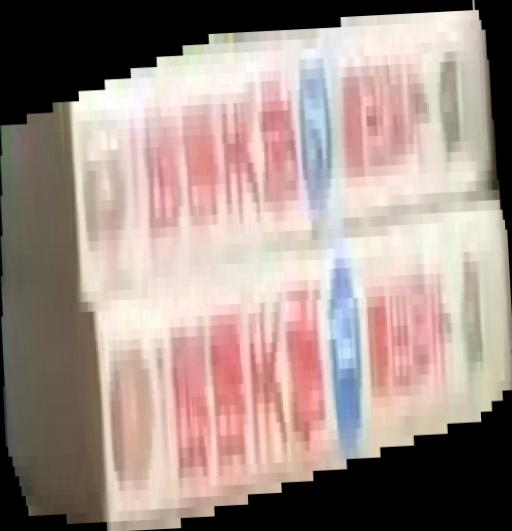flat: (1, 1, 512, 531)
